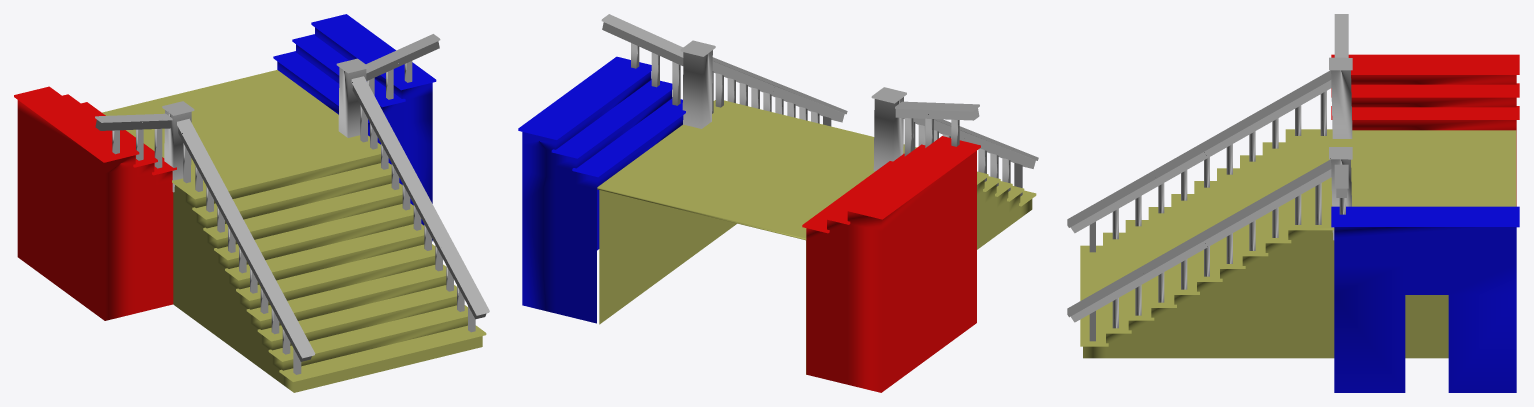
Rendered from stairsUPDATED.fbx.
3 views of the same model, side by side, from view 1: azimuth 30°, elevation 25°; view 2: azimuth 150°, elevation 25°; view 3: azimuth 270°, elevation 25° (orthographic). The views are drawn at different scales.
Parts seen in each view (by area): view 1: Main_Stair2, Stairs_Left, Stairs_Left1, polySurface25, polySurface8, polySurface37, polySurface20, polySurface38, polySurface21; view 2: Main_Stair2, Stairs_Left, Stairs_Left1, polySurface37, polySurface20, polySurface25, polySurface38, polySurface8, polySurface21; view 3: Main_Stair2, Stairs_Left1, Stairs_Left, polySurface25, polySurface8, polySurface20, polySurface37, polySurface21, polySurface38.
Part boxes in pixels (bbox=[...]): Main_Stair2: bbox=[102, 70, 486, 392]; Stairs_Left: bbox=[14, 86, 176, 320]; Stairs_Left1: bbox=[273, 14, 436, 241]; polySurface25: bbox=[351, 76, 489, 319]; polySurface8: bbox=[177, 118, 315, 361]; polySurface37: bbox=[336, 58, 368, 137]; polySurface20: bbox=[162, 101, 194, 192]; polySurface38: bbox=[366, 34, 440, 80]; polySurface21: bbox=[95, 113, 172, 130]; Main_Stair2: bbox=[597, 100, 1036, 374]; Stairs_Left: bbox=[802, 136, 980, 392]; Stairs_Left1: bbox=[518, 56, 685, 323]; polySurface37: bbox=[680, 40, 715, 128]; polySurface20: bbox=[871, 87, 906, 171]; polySurface25: bbox=[712, 57, 847, 122]; polySurface38: bbox=[601, 14, 683, 65]; polySurface8: bbox=[904, 118, 1038, 168]; polySurface21: bbox=[895, 101, 979, 120]; Main_Stair2: bbox=[1080, 129, 1516, 358]; Stairs_Left1: bbox=[1331, 206, 1519, 392]; Stairs_Left: bbox=[1331, 54, 1519, 206]; polySurface25: bbox=[1067, 159, 1331, 322]; polySurface8: bbox=[1067, 70, 1331, 233]; polySurface20: bbox=[1329, 57, 1352, 138]; polySurface37: bbox=[1329, 147, 1352, 240]; polySurface21: bbox=[1334, 14, 1348, 57]; polySurface38: bbox=[1334, 164, 1348, 197].
Bounding box in the file's own units: 720 × 408 × 793.
